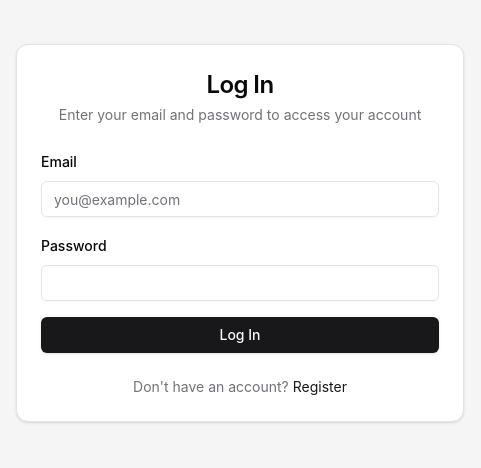
Test: LoginPage › should show validation error for empty email
Expected: the field labelled "Email" is enabled, [41,181,439,217]
What coordinates should you click on to do the following:
click the button "Log In"
I would click on:
 (240, 335)
Its box is [41,317,439,353].
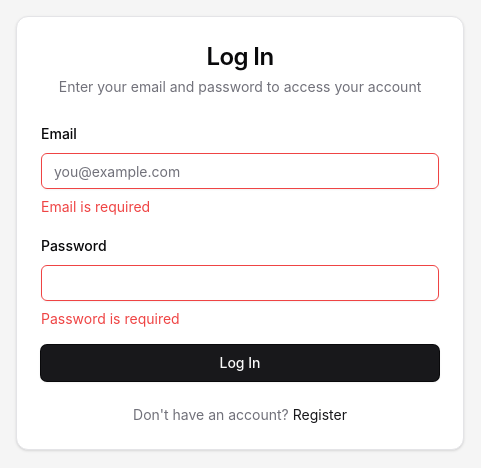
Now the text "Email is required" is shown, box [41,198,150,215]
